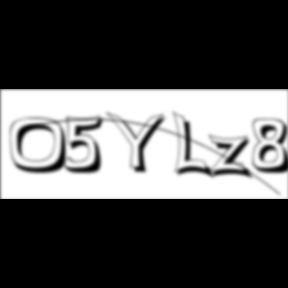5: (62, 114, 110, 176)
L: (173, 110, 217, 182)
O: (10, 117, 76, 176)
Y: (106, 110, 172, 176)
z: (208, 134, 258, 182)
